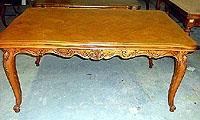obstacle: (0, 8, 196, 111)
